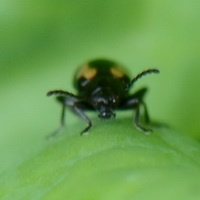insect: (47, 59, 159, 134)
